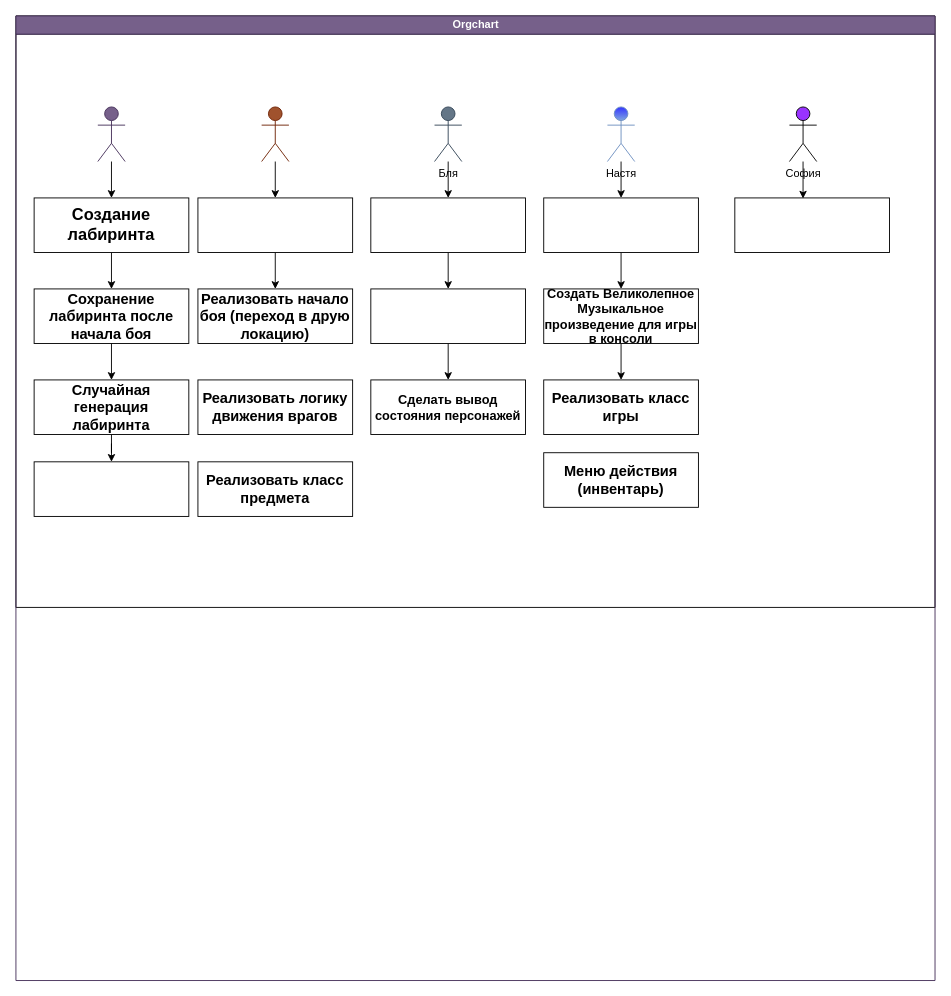
This 951x996 diagram has some shape labels left out. Each missing label, with the centre of its shape:
Блина: the point at 111,134
Вава: the point at 275,134
Враги в 3д: the point at 111,488
Интерфейс: the point at 812,225
Пошаговый бой: the point at 275,225
Реализовать класс персонажа: the point at 448,225
Сделать вывод состояния мира: the point at 620,225
Случайная генерация врагов, предметов и т.п.: the point at 448,316
